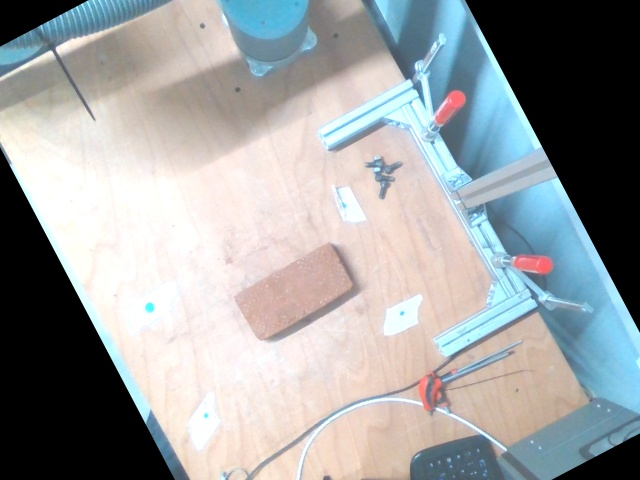brick: (234, 240, 352, 340)
